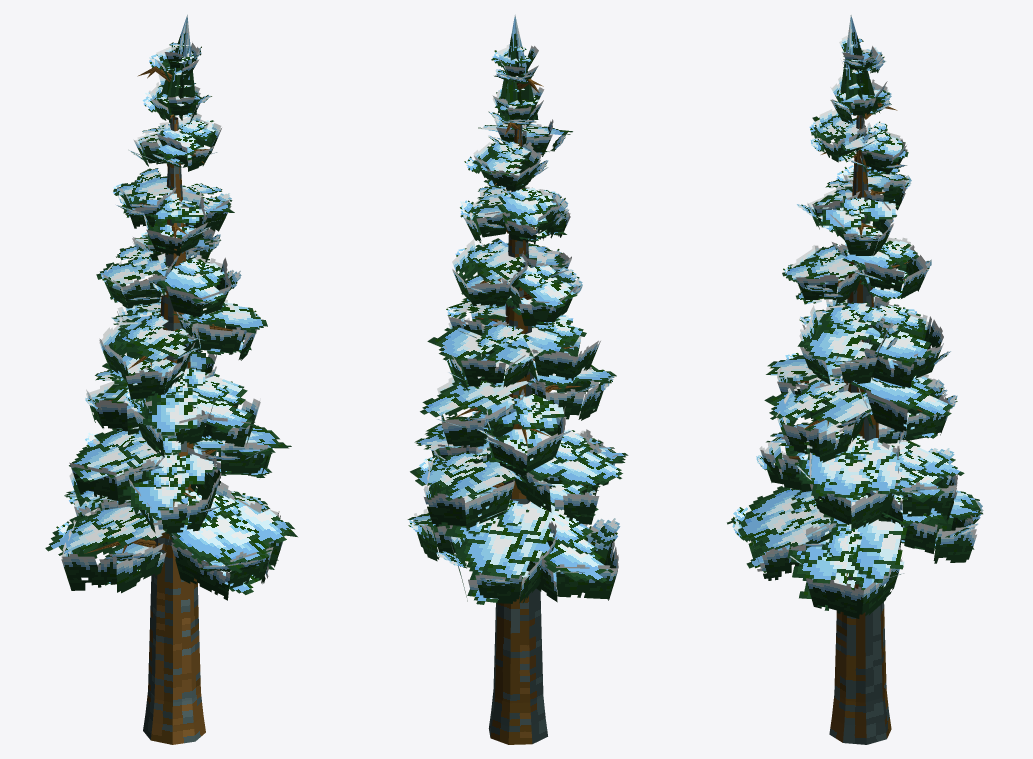
Rendered from rct2.scenery_small.tcfs.glb.
3 renders of one model, left to right at view 1: azimuth 30°, elevation 25°; view 2: azimuth 150°, elevation 25°; view 3: azimuth 270°, elevation 25°, orthographic.
Visible parts, largest first — view 1: rct2.scenery_small.tcfs; view 2: rct2.scenery_small.tcfs; view 3: rct2.scenery_small.tcfs.
Boxes of the visible parts, box(x1,y1,x2,y2) form: rct2.scenery_small.tcfs: box(45, 14, 297, 744); rct2.scenery_small.tcfs: box(407, 14, 628, 744); rct2.scenery_small.tcfs: box(727, 15, 983, 744).
Bounding box in the file's own units: 1.52 × 3.92 × 1.56.
Materials: 1 (1 with a texture image).
